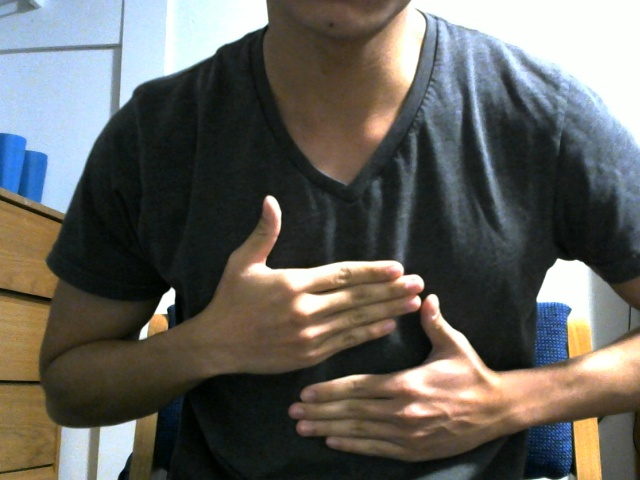Enjoy: (182, 188, 534, 467)
